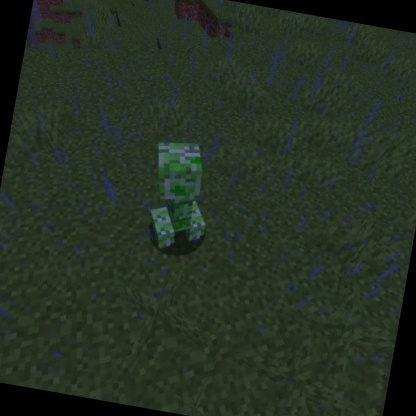creeper: (134, 133, 224, 261)
